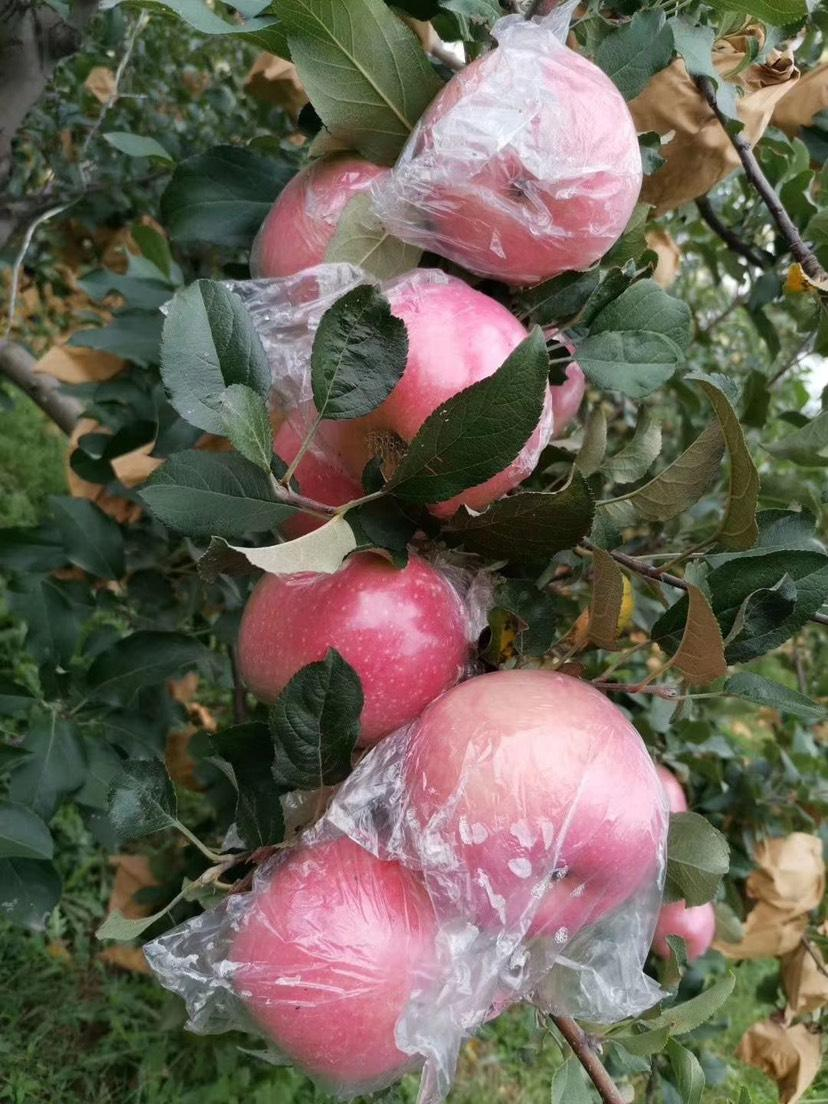apple: (162, 656, 693, 1078), (240, 538, 474, 740), (652, 900, 714, 958)
